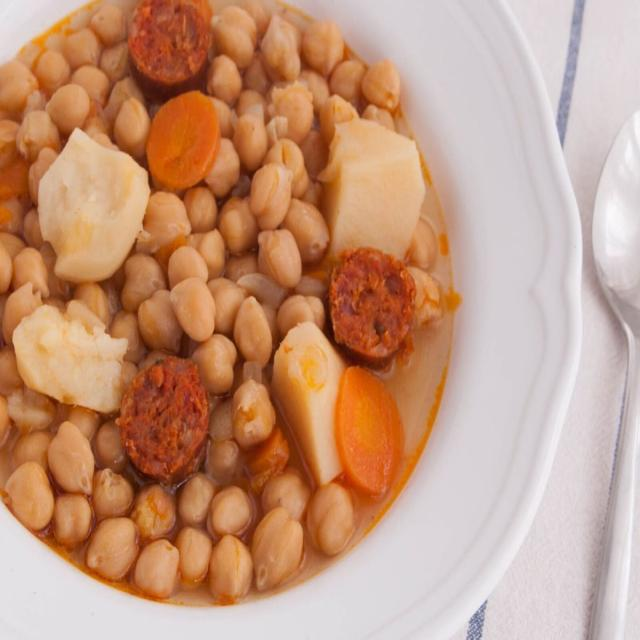garbanzos: (2, 4, 512, 620)
